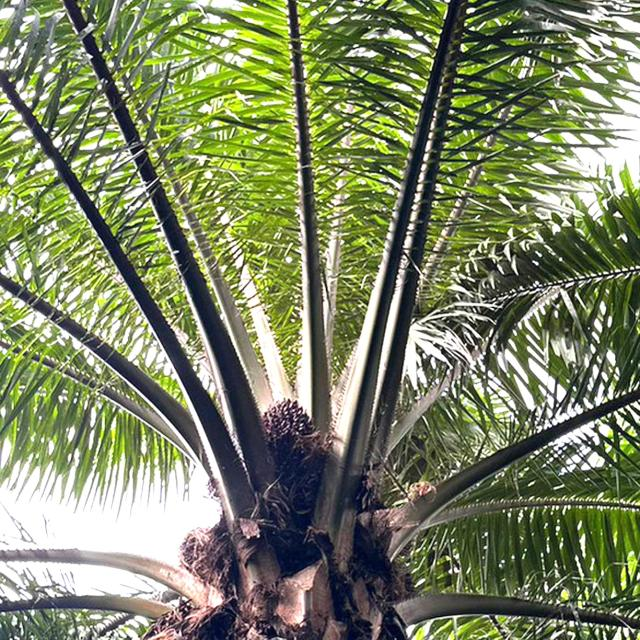ripe: (258, 384, 324, 466)
